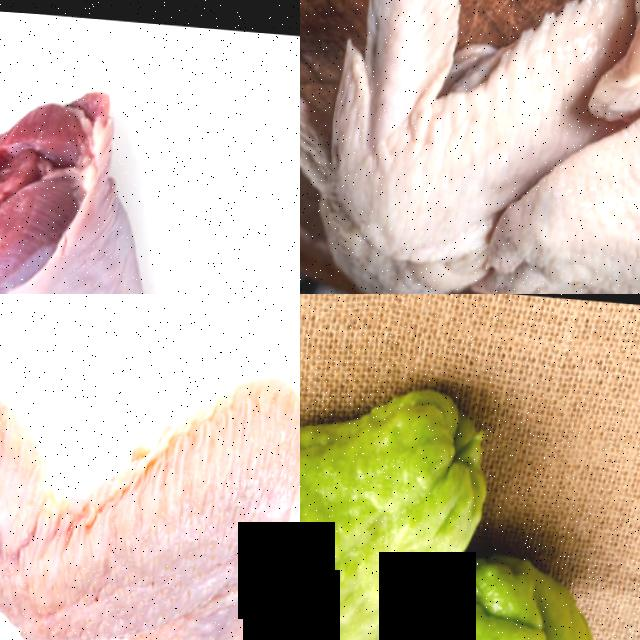chayote: (300, 324, 444, 640), (420, 540, 640, 640)
chicken thigh: (0, 51, 300, 294)
chicken wing: (0, 294, 300, 640), (311, 0, 640, 265)
